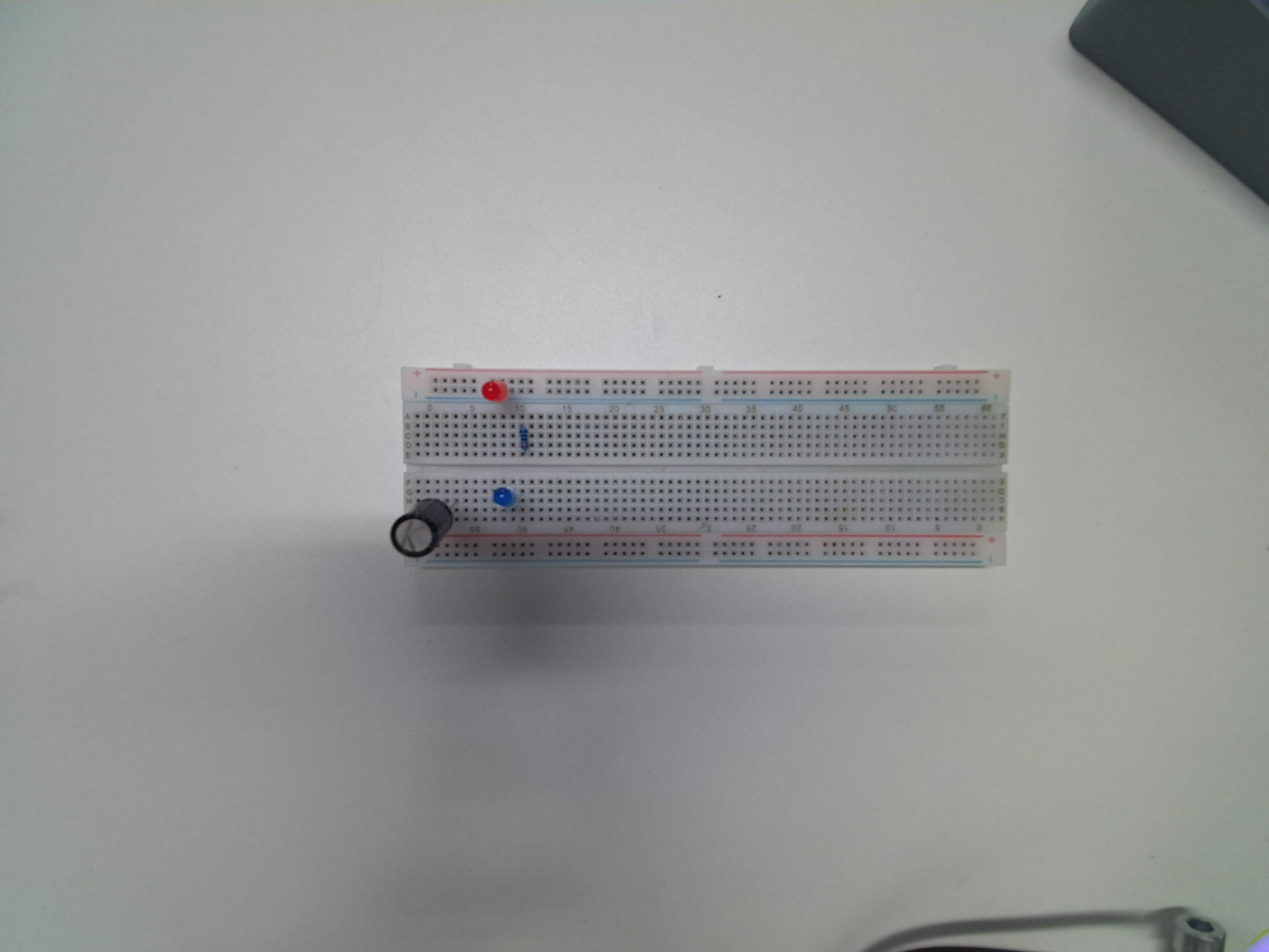base: (390, 364, 1011, 574)
capacitor: (390, 498, 454, 559)
red-led: (478, 376, 510, 404)
resistor-big: (491, 485, 516, 509)
resistor-small: (517, 421, 533, 455)
